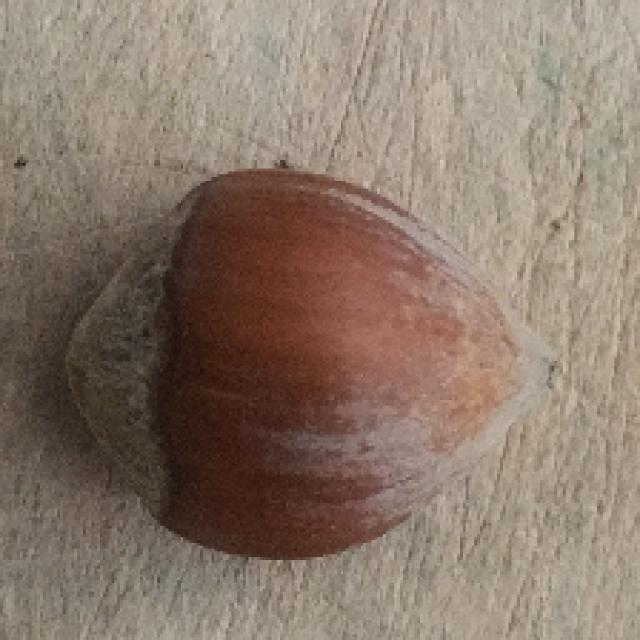qualityHazelnut: (46, 159, 558, 573)
